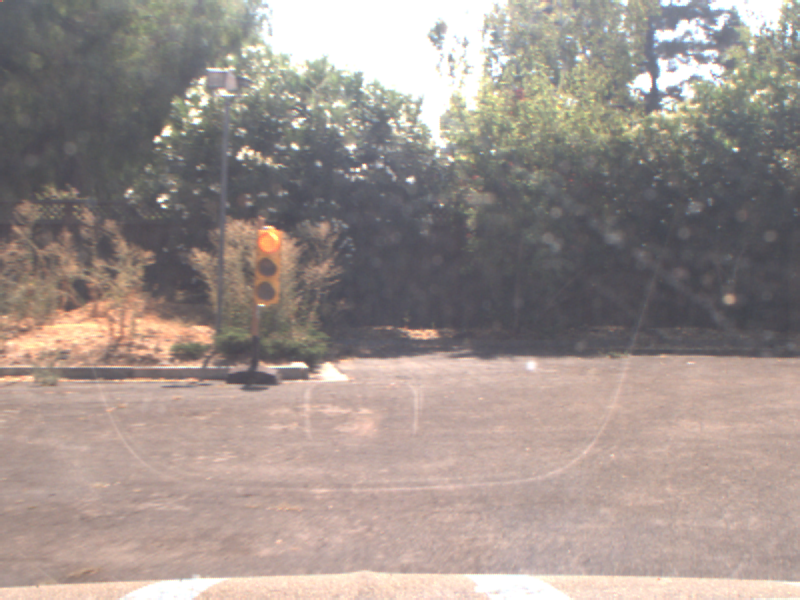red: (251, 222, 282, 312)
